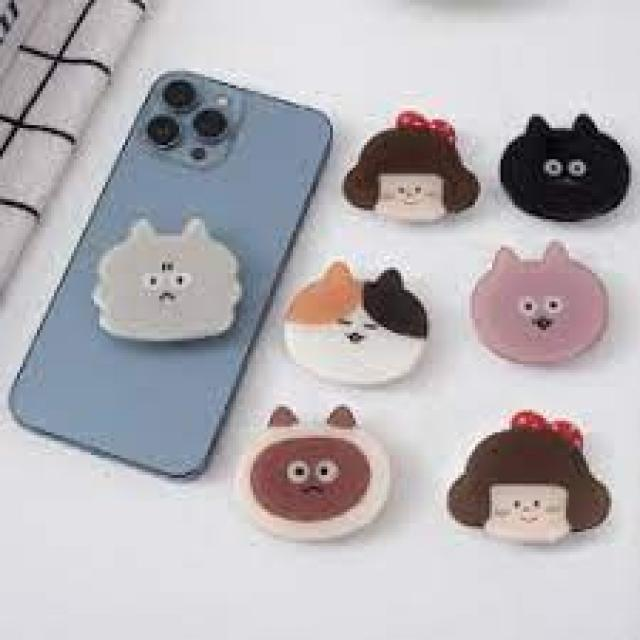Phone: (5, 65, 341, 485)
